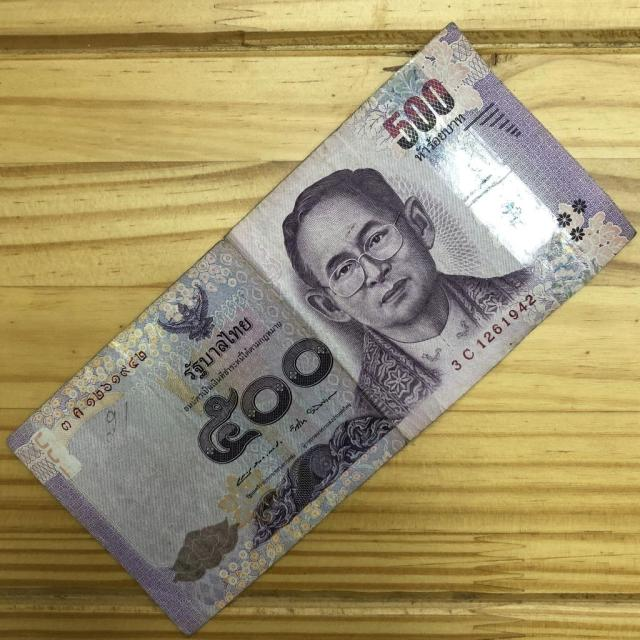THAI500: (8, 22, 637, 637)
